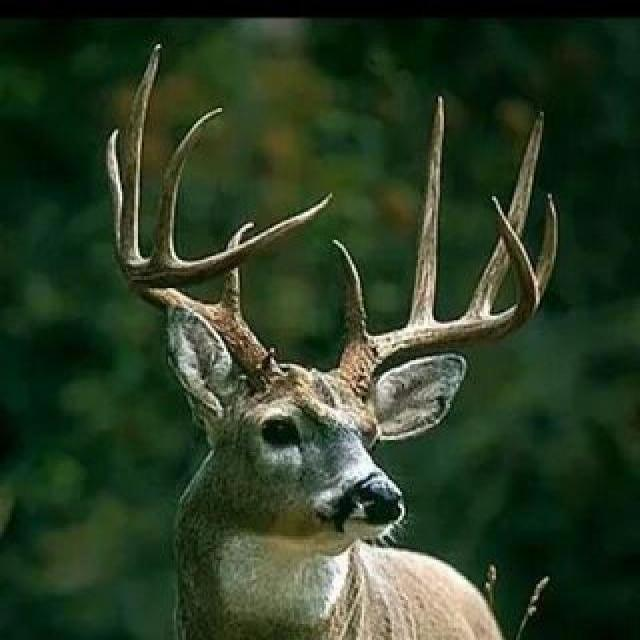deer: (86, 77, 640, 640)
